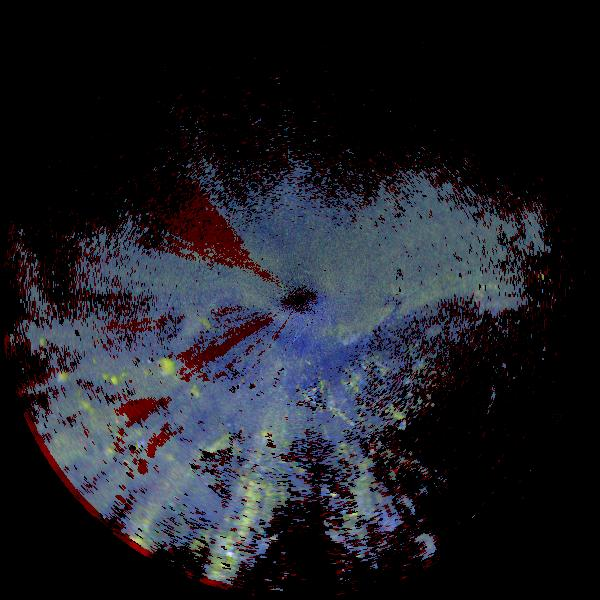roost: (135, 344, 189, 398)
